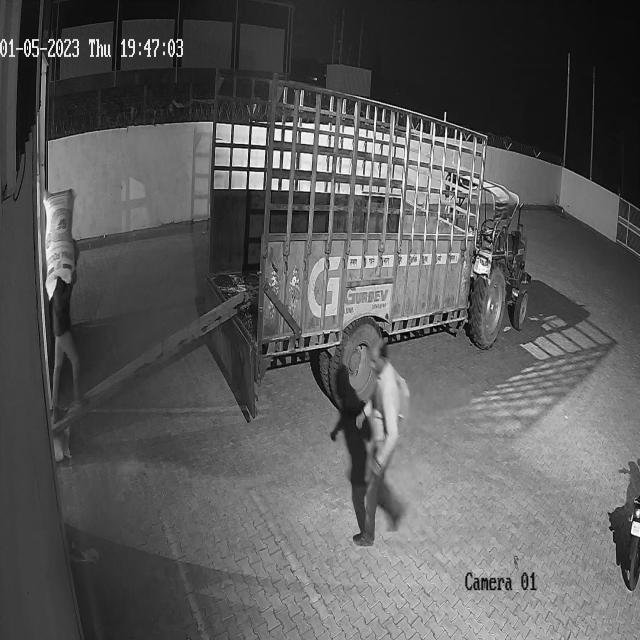sack: (43, 188, 75, 300)
